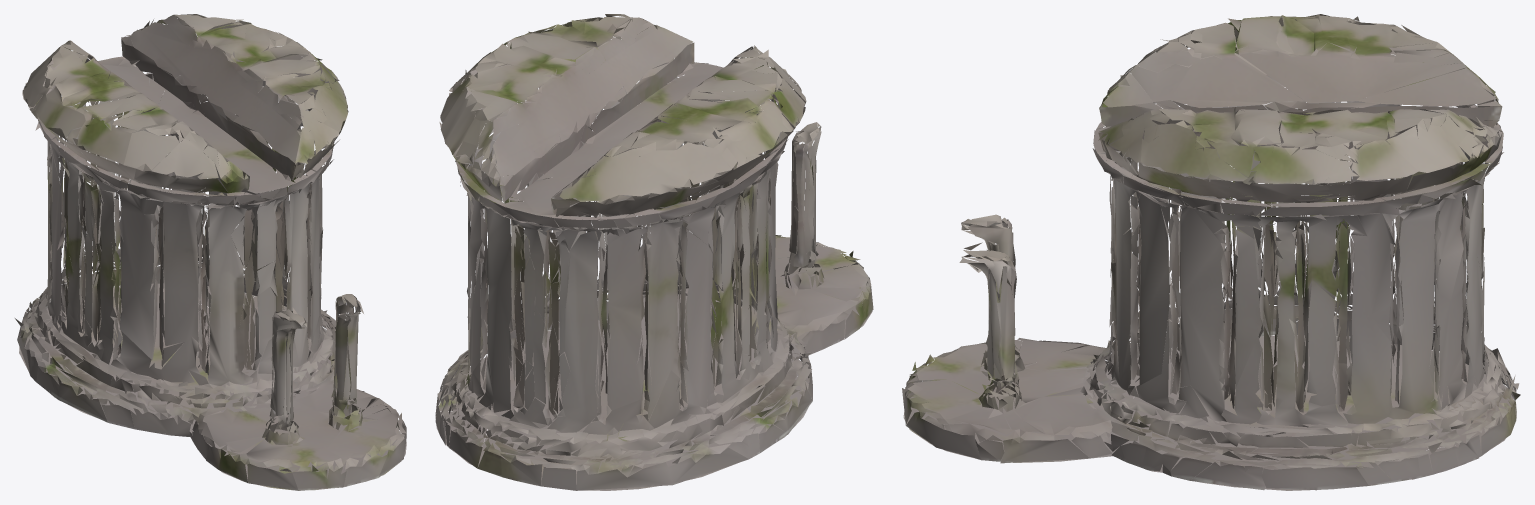
The model's file is Lab_BrokenColumn.glb.
3 views of the same model, side by side, from view 1: azimuth 30°, elevation 25°; view 2: azimuth 150°, elevation 25°; view 3: azimuth 270°, elevation 25° (orthographic). The views are drawn at different scales.
Parts seen in each view (by area): view 1: Lab_BrokenColumn; view 2: Lab_BrokenColumn; view 3: Lab_BrokenColumn.
Part boxes in pixels (<box>): Lab_BrokenColumn: <box>15,14,406,490</box>; Lab_BrokenColumn: <box>435,14,873,490</box>; Lab_BrokenColumn: <box>902,14,1520,490</box>.
Size of the model in its own units: 2.02 by 2.04 by 3.37.
Materials: 1 (1 with a texture image).
